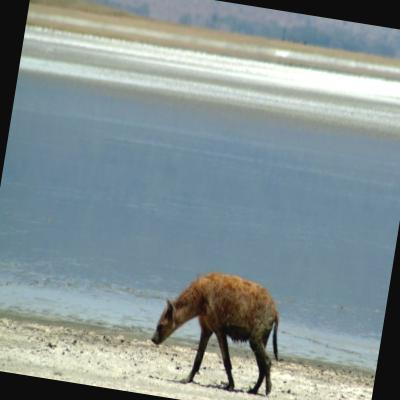hyenas: (126, 215, 350, 400)
